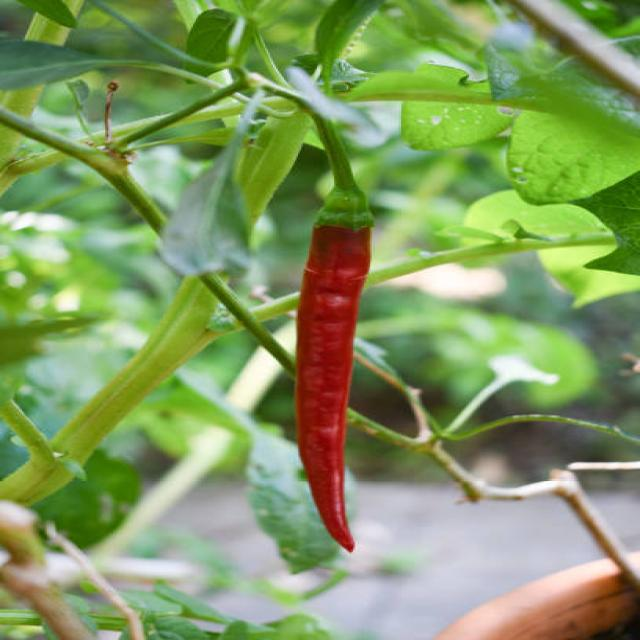Ripe: (298, 225, 369, 550)
